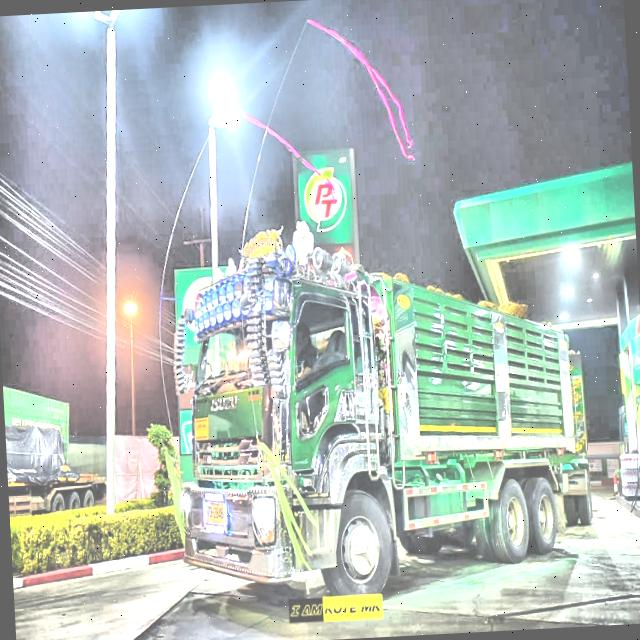trailer: (170, 222, 596, 614)
